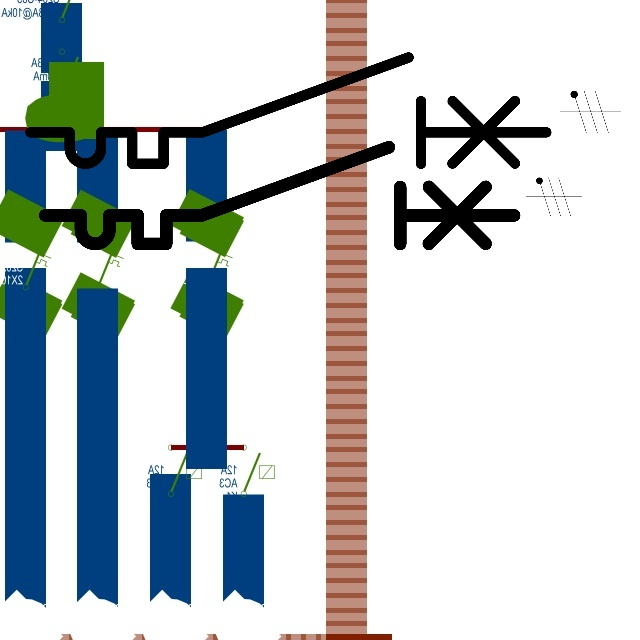interruptor_termomagnetico: (17, 44, 559, 177), (33, 135, 526, 256)
